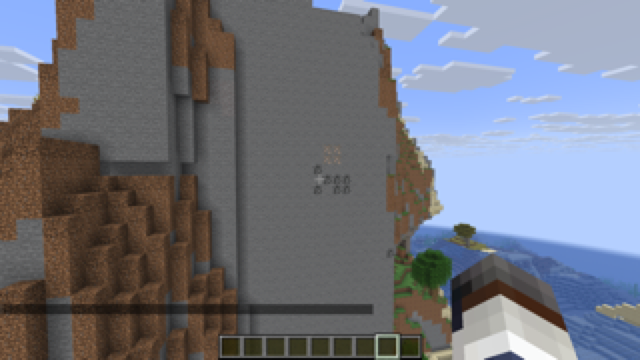coal: (312, 165, 352, 197), (385, 247, 396, 259)
iron: (322, 144, 342, 165)
